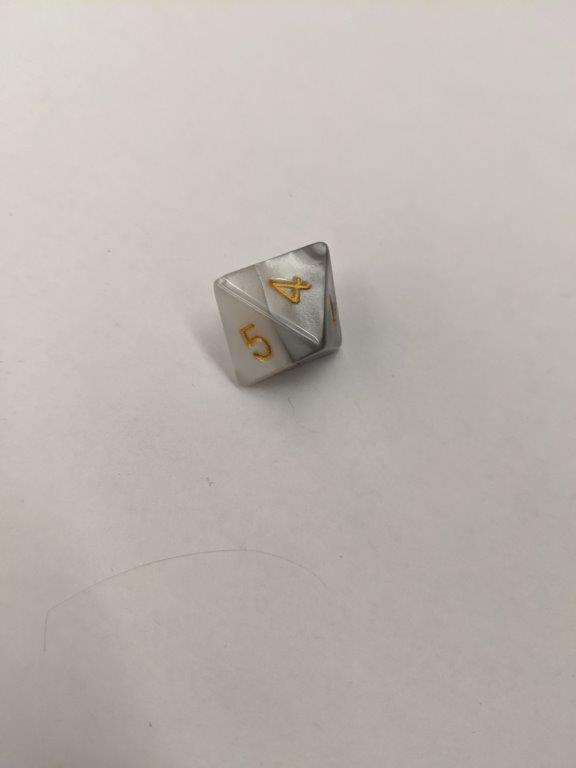d8-4: (212, 239, 346, 388)
